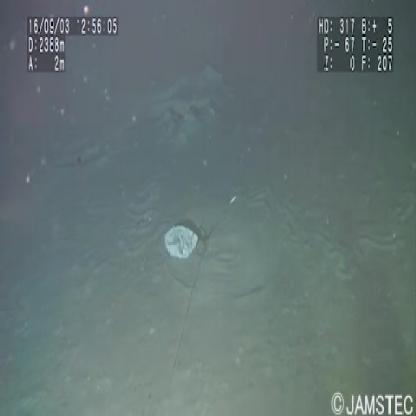Rác: (160, 219, 206, 265)
